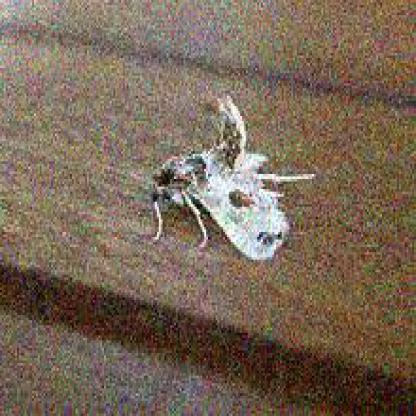leucinodes: (149, 89, 312, 263)
